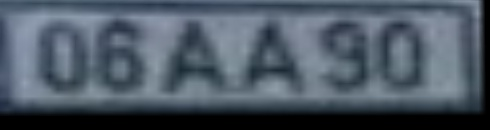0: (29, 20, 94, 102), (374, 19, 434, 99)
6: (89, 20, 153, 101)
9: (315, 19, 377, 100)
A: (236, 18, 318, 103), (153, 20, 239, 99)
